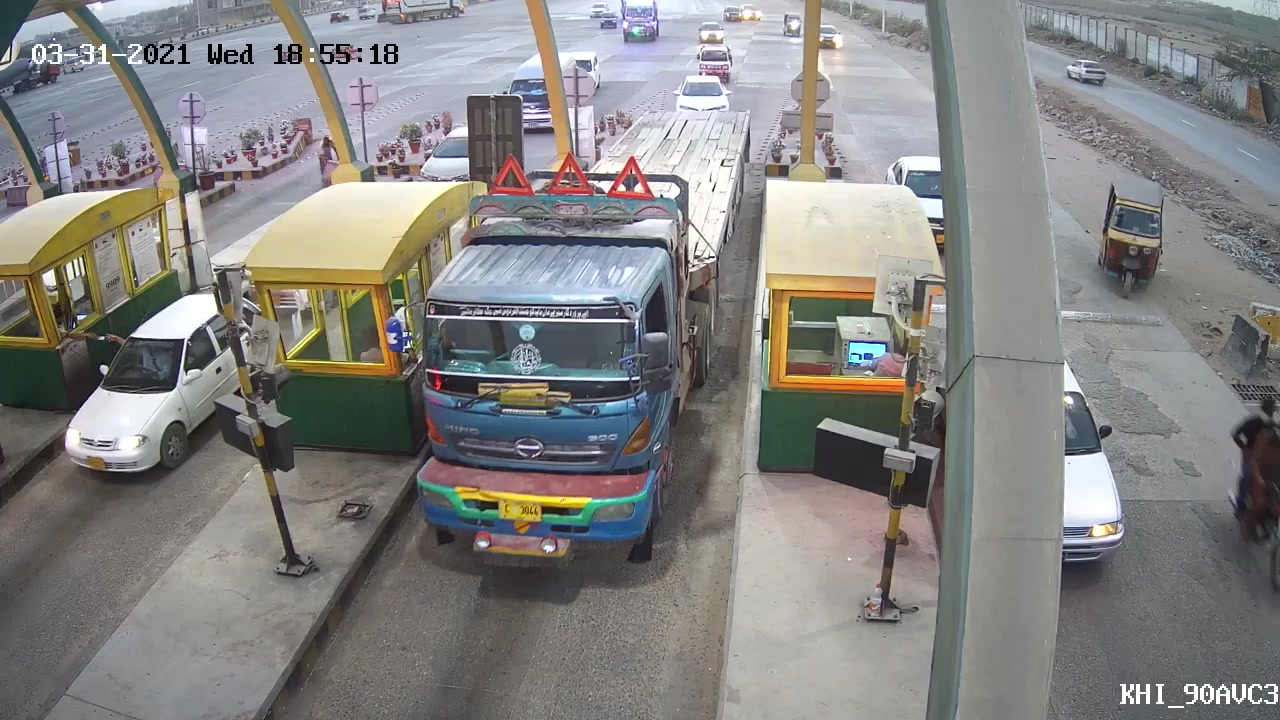F6: (374, 100, 760, 576)
